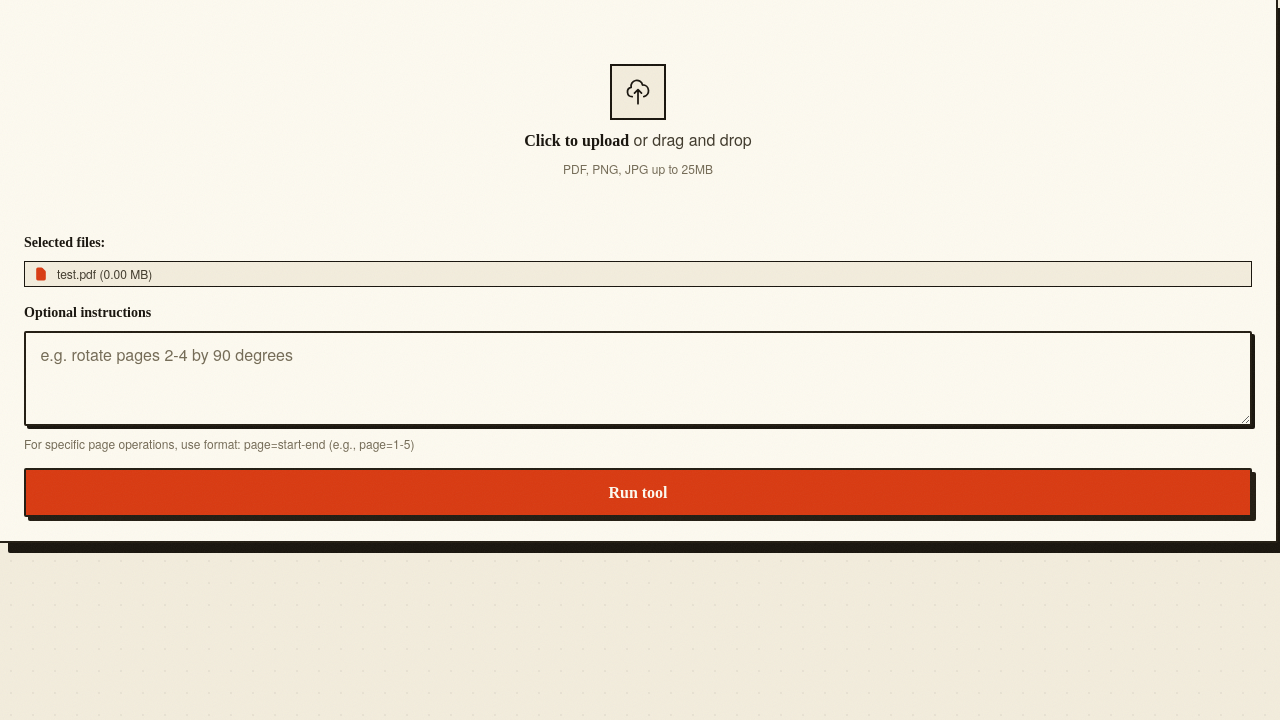
ToolUploadForm › shows loading state during submission
Earlier steps of the test are not shown.
Click the button "Run tool" at (638, 493), box top-left (24, 468), bottom-right (1252, 517)
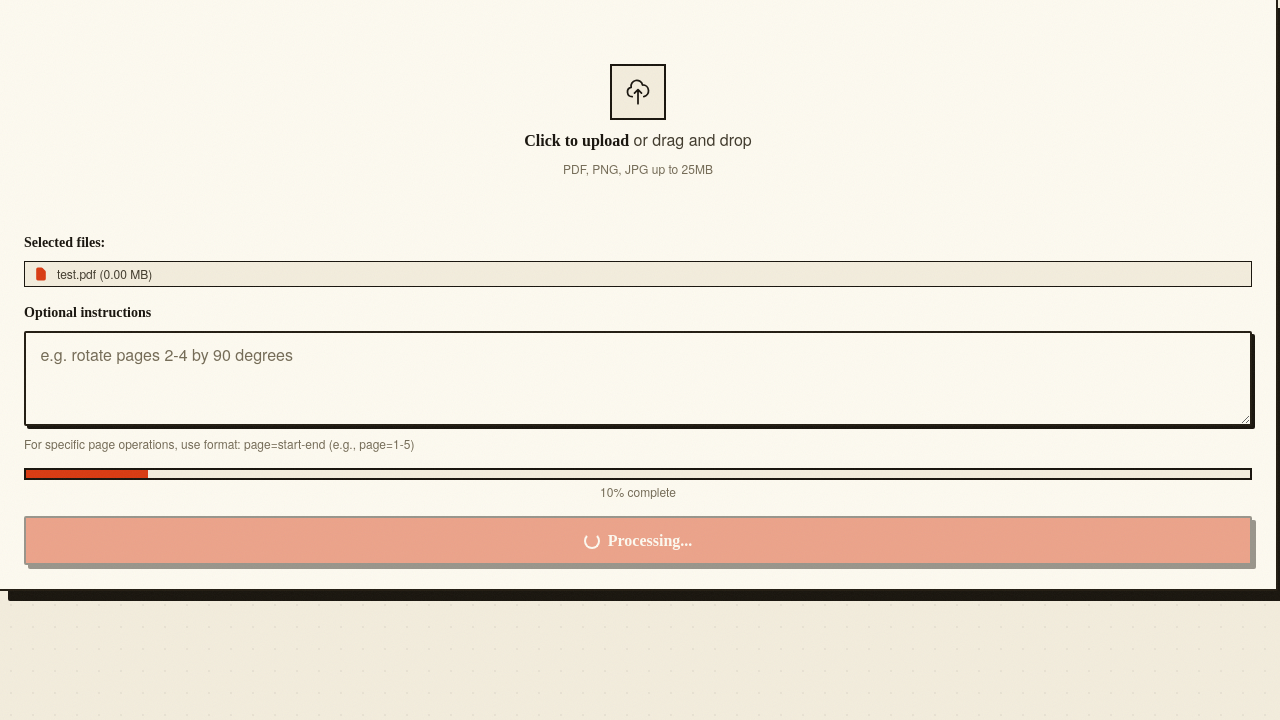
Check: the text "Processing..." is shown, box top-left (608, 529), bottom-right (692, 553)
